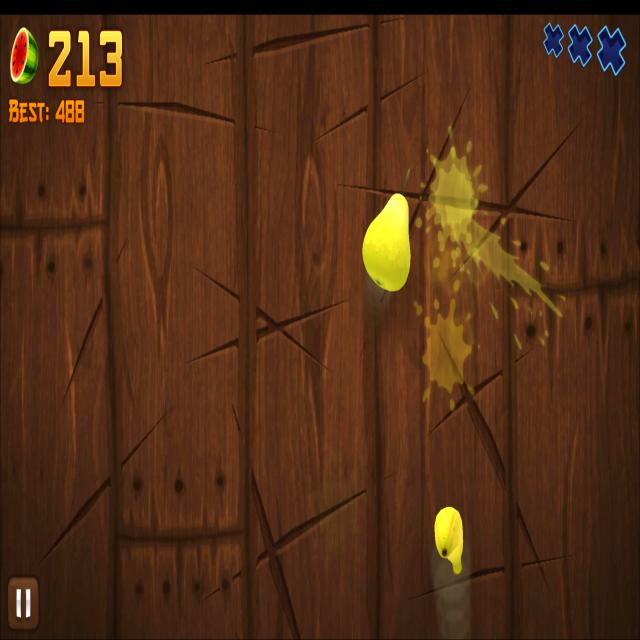fruit: (362, 193, 412, 291), (434, 506, 464, 576)
